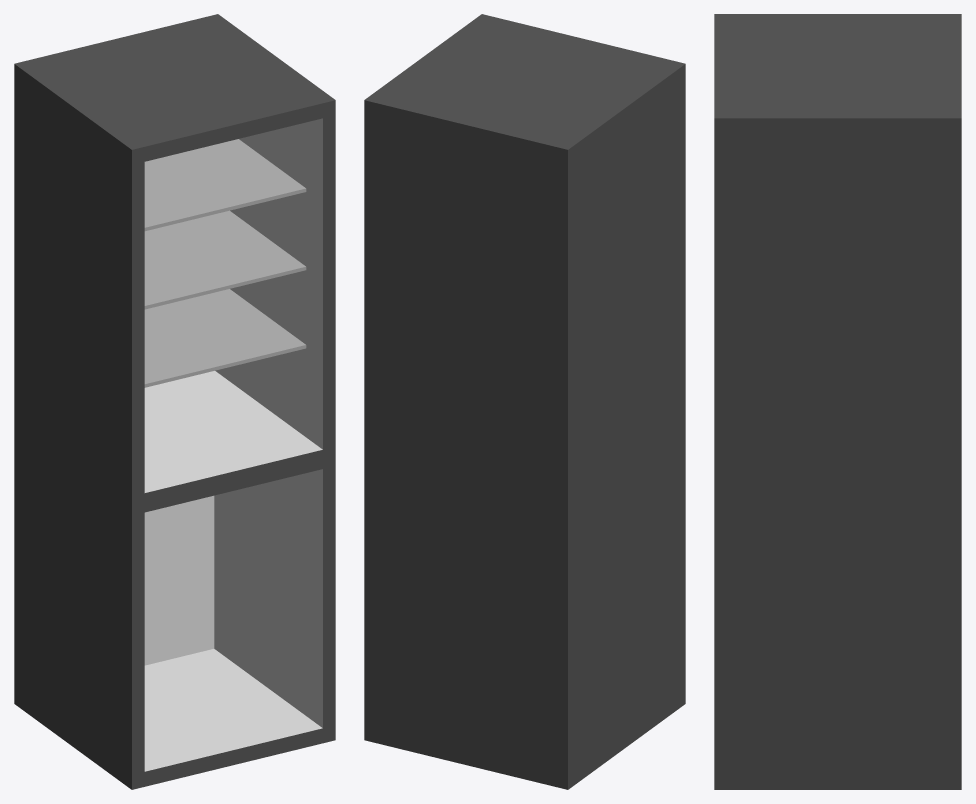
File: Refrigerator1_C2_01.fbx
The picture shows the model from 3 angles, left to right: view 1: azimuth 30°, elevation 25°; view 2: azimuth 150°, elevation 25°; view 3: azimuth 270°, elevation 25°; orthographic projection. The views are drawn at different scales.
Parts seen in each view (by area): view 1: Refrigerator1_C2_01; view 2: Refrigerator1_C2_01; view 3: Refrigerator1_C2_01.
Part boxes in pixels (x1,y1,x2,y2): Refrigerator1_C2_01: (14,14,335,789); Refrigerator1_C2_01: (364,14,685,789); Refrigerator1_C2_01: (714,14,961,789).
Bounding box in the file's own units: 60 × 180 × 60.
